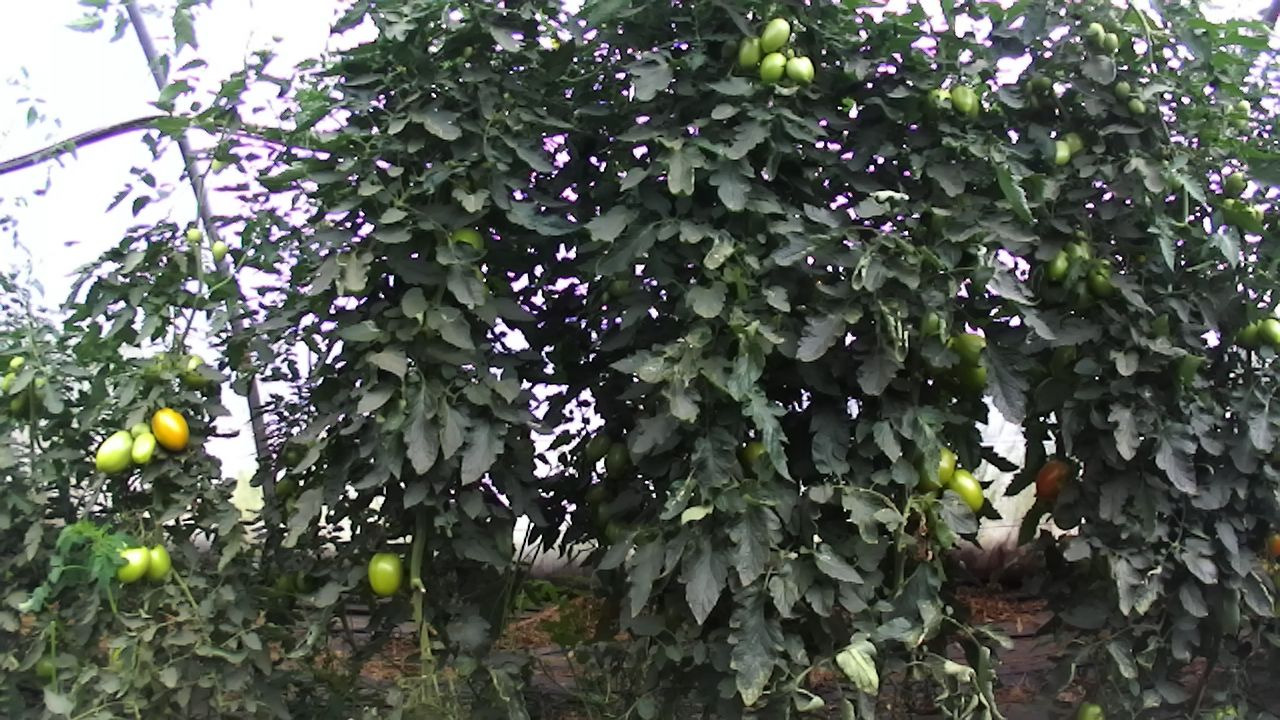tomato: (941, 466, 986, 516), (93, 428, 136, 477), (366, 548, 407, 599), (150, 408, 191, 455), (1030, 457, 1073, 501), (114, 542, 151, 584), (1087, 254, 1117, 301), (758, 16, 791, 55), (143, 543, 172, 586), (783, 54, 816, 86), (1043, 247, 1071, 284), (735, 34, 762, 72), (757, 50, 787, 84), (129, 430, 156, 467), (583, 433, 610, 463), (1220, 169, 1247, 199), (950, 83, 974, 116), (604, 441, 629, 471), (1256, 315, 1280, 346), (1049, 138, 1072, 167), (583, 480, 606, 504), (210, 238, 228, 263), (1125, 96, 1146, 116), (1112, 80, 1131, 102), (1103, 31, 1119, 56), (185, 225, 203, 242)
